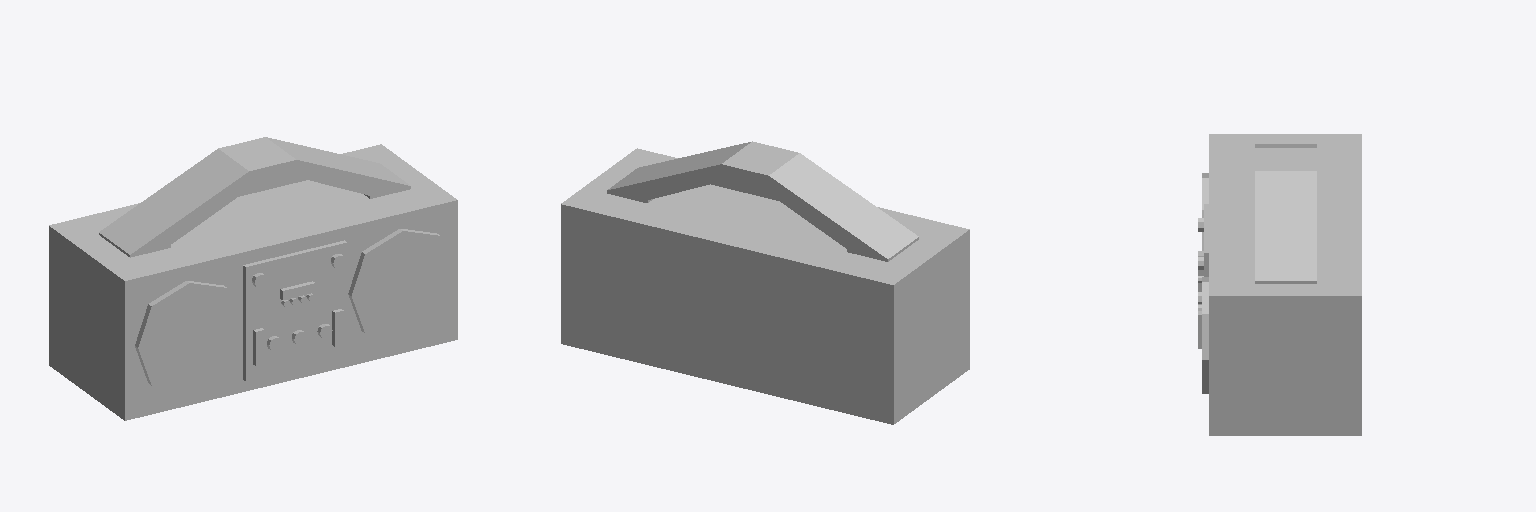
The model's file is STEREO.obj.
The picture shows the model from 3 angles: view 1: azimuth 30°, elevation 25°; view 2: azimuth 150°, elevation 25°; view 3: azimuth 270°, elevation 25°; orthographic projection.
Visible parts, largest first — view 1: STEREO:polySurface1; view 2: STEREO:polySurface1; view 3: STEREO:polySurface1.
Part boxes in pixels (x1,y1,x2,y2): STEREO:polySurface1: (49, 137, 457, 420); STEREO:polySurface1: (561, 141, 969, 424); STEREO:polySurface1: (1198, 134, 1361, 435).
Size of the model in its own units: 4.03 by 2.28 by 1.72.